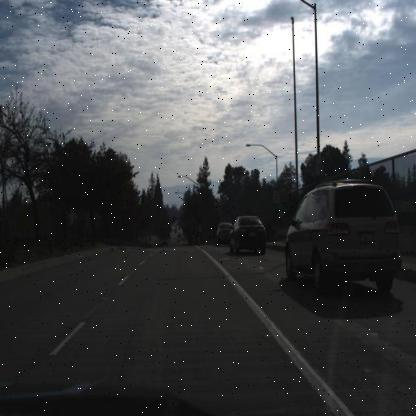car: (283, 178, 402, 305), (228, 215, 268, 255), (216, 221, 232, 245)
